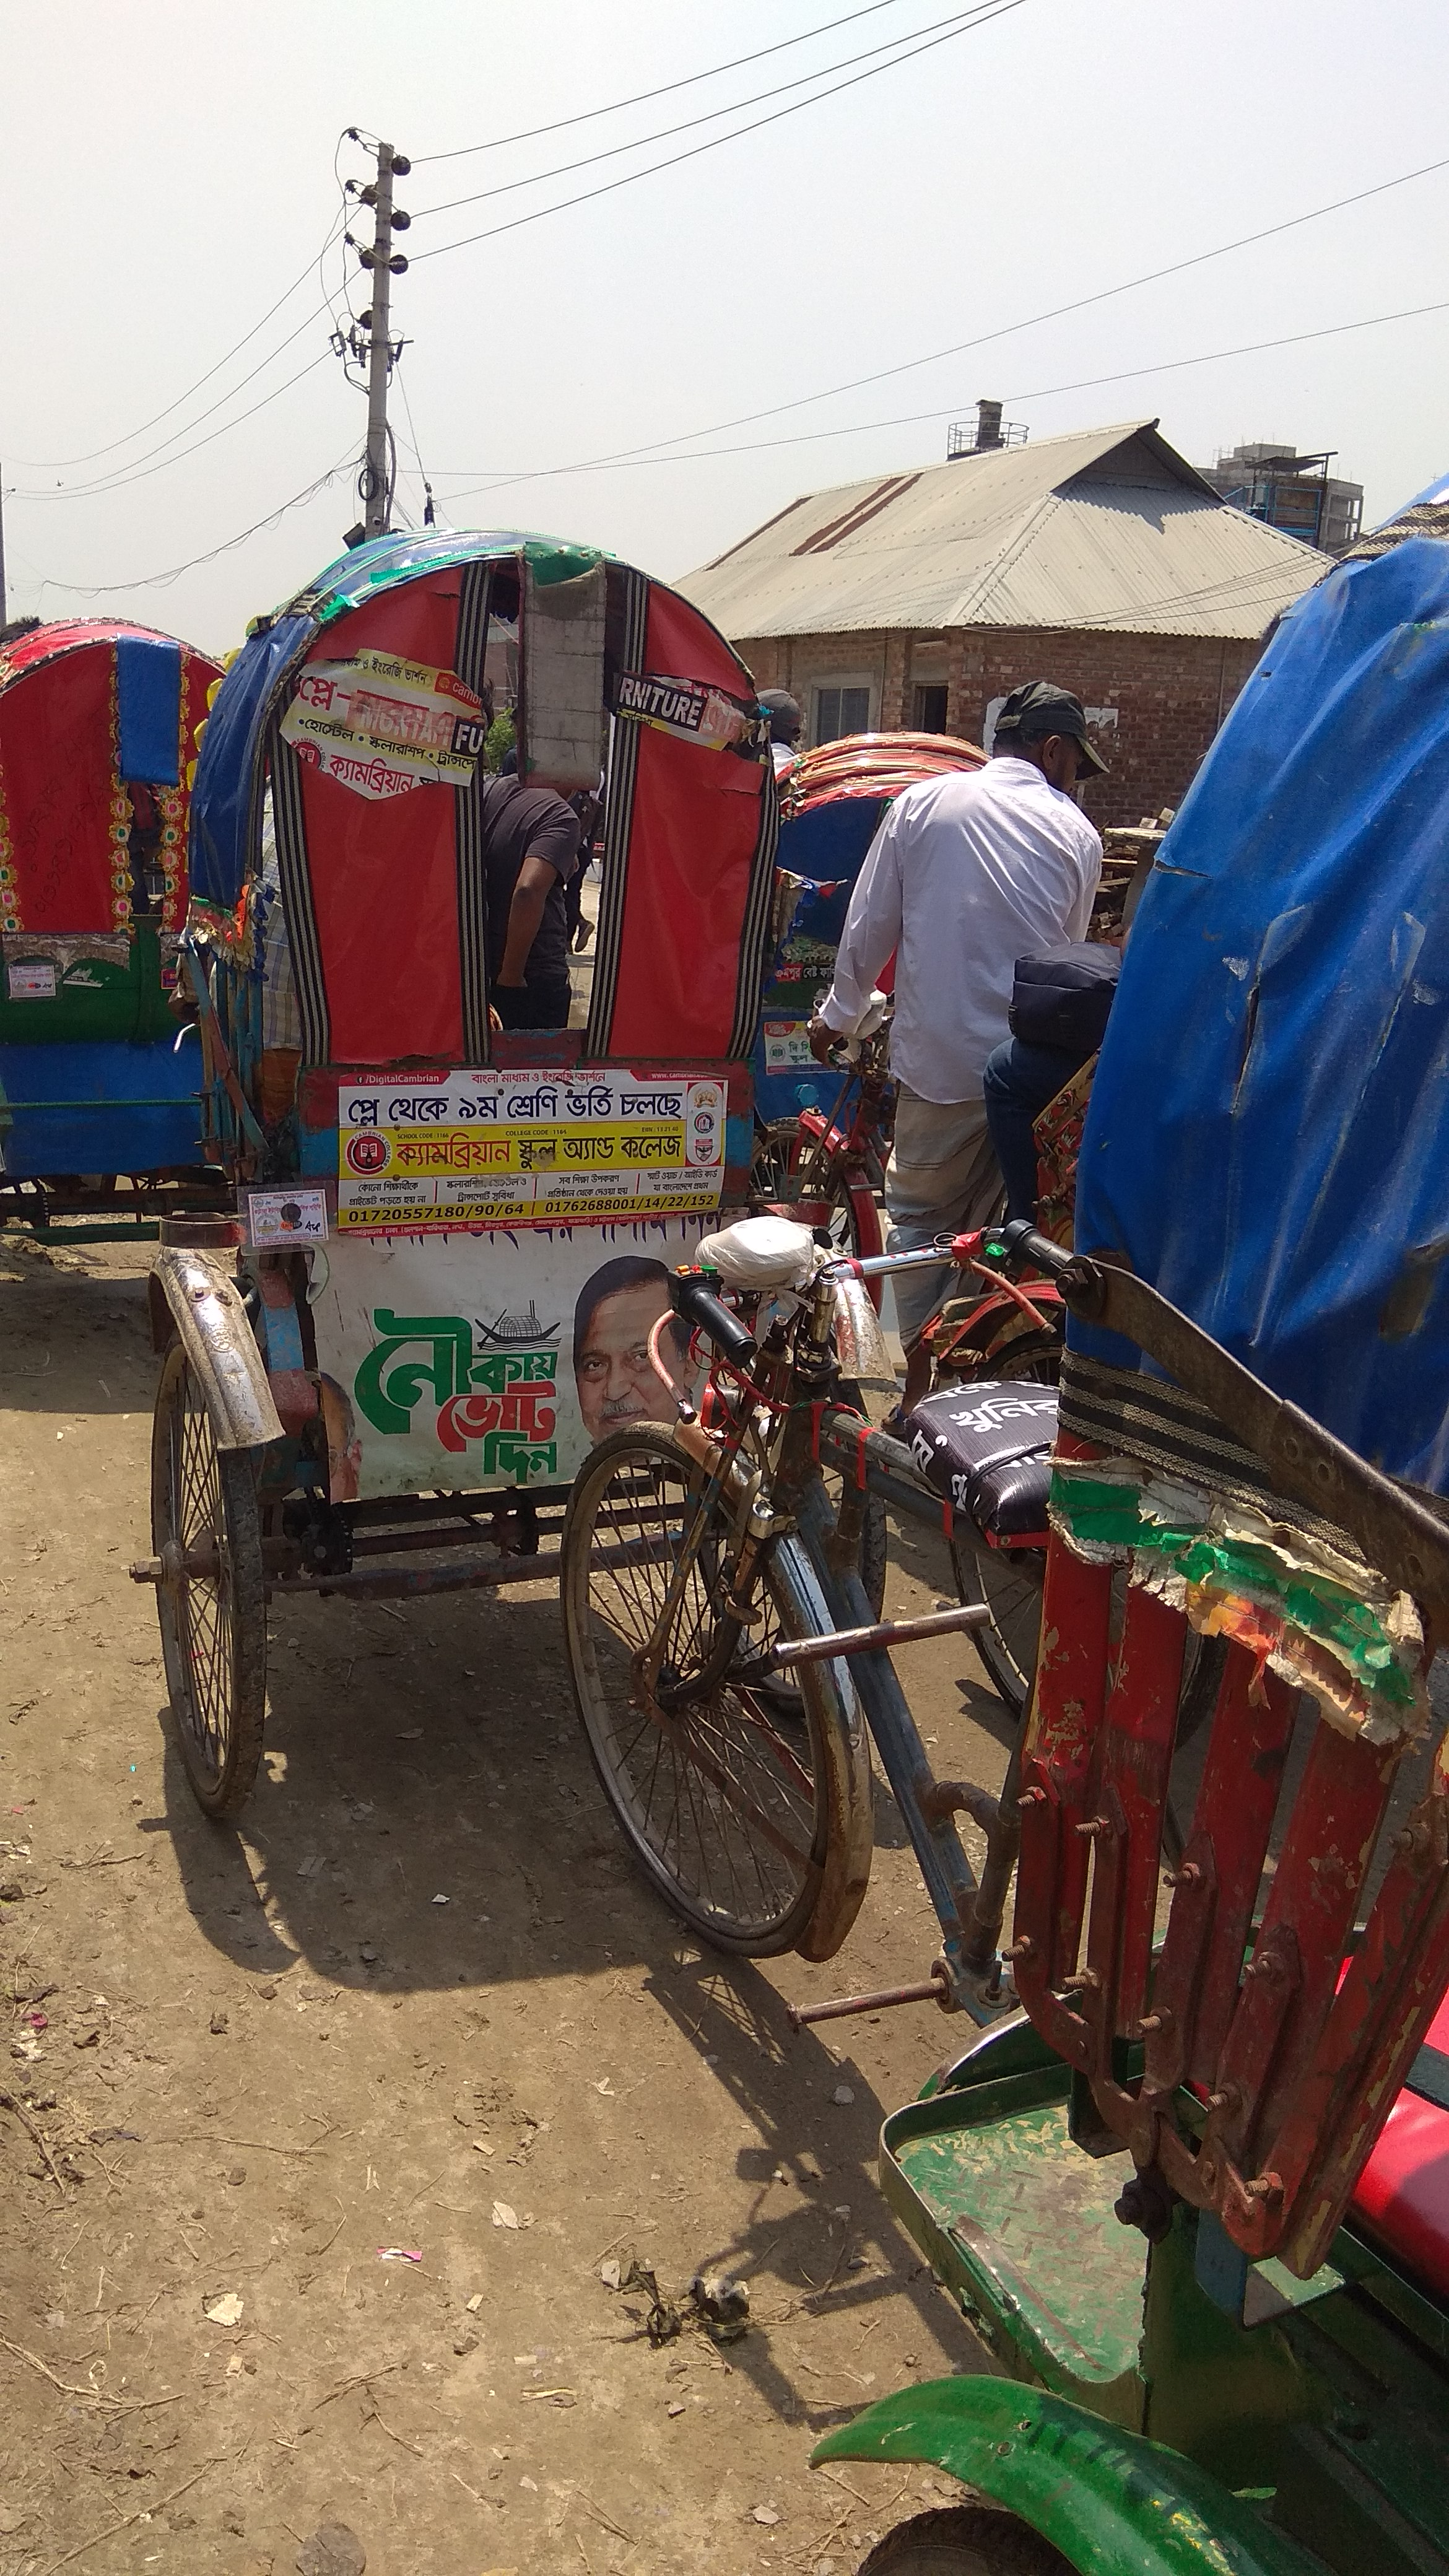Rickshaw: (711, 478, 1428, 2236), (156, 485, 766, 1744), (12, 570, 308, 1295), (763, 692, 1024, 1108)
